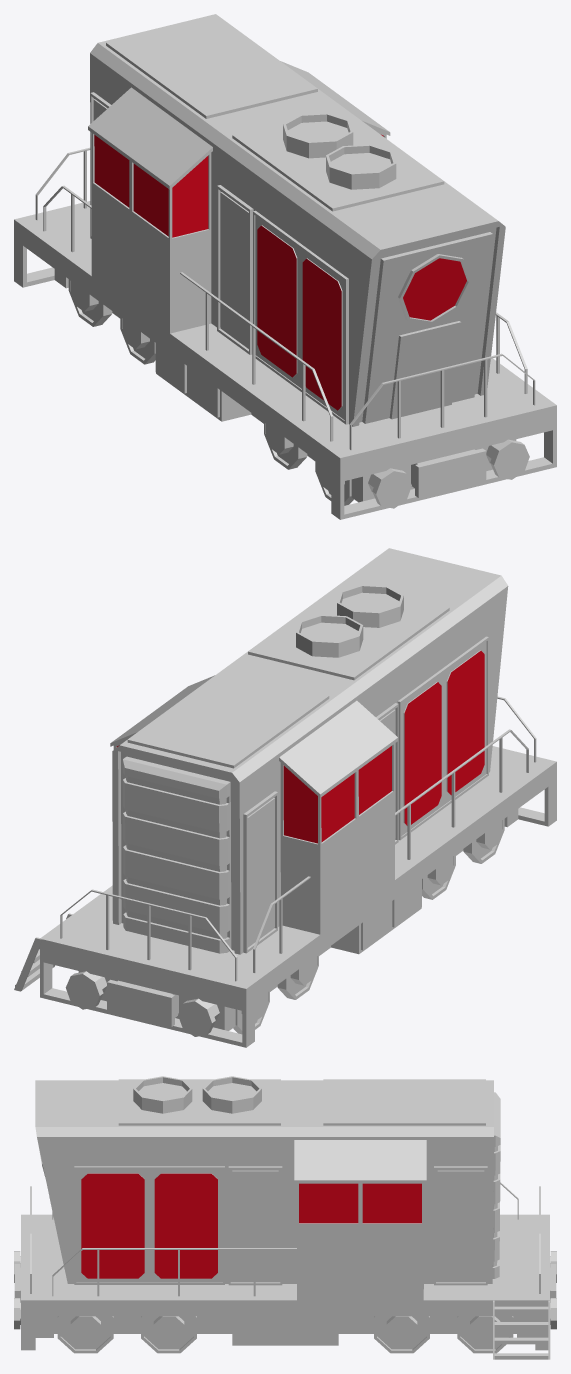
The model's file is SM_freight_train_01.glb.
3 views of the same model, one above another, from view 1: azimuth 30°, elevation 25°; view 2: azimuth 150°, elevation 25°; view 3: azimuth 270°, elevation 25° (orthographic). The views are drawn at different scales.
Visible parts, largest first — view 1: freight_train_01; view 2: freight_train_01; view 3: freight_train_01.
Boxes of the visible parts, x1,y1,x2,y2 form: freight_train_01: (14,14,556,519); freight_train_01: (14,548,556,1047); freight_train_01: (14,1076,556,1359).
Bounding box in the file's own units: 1.74 × 1.96 × 4.11.
